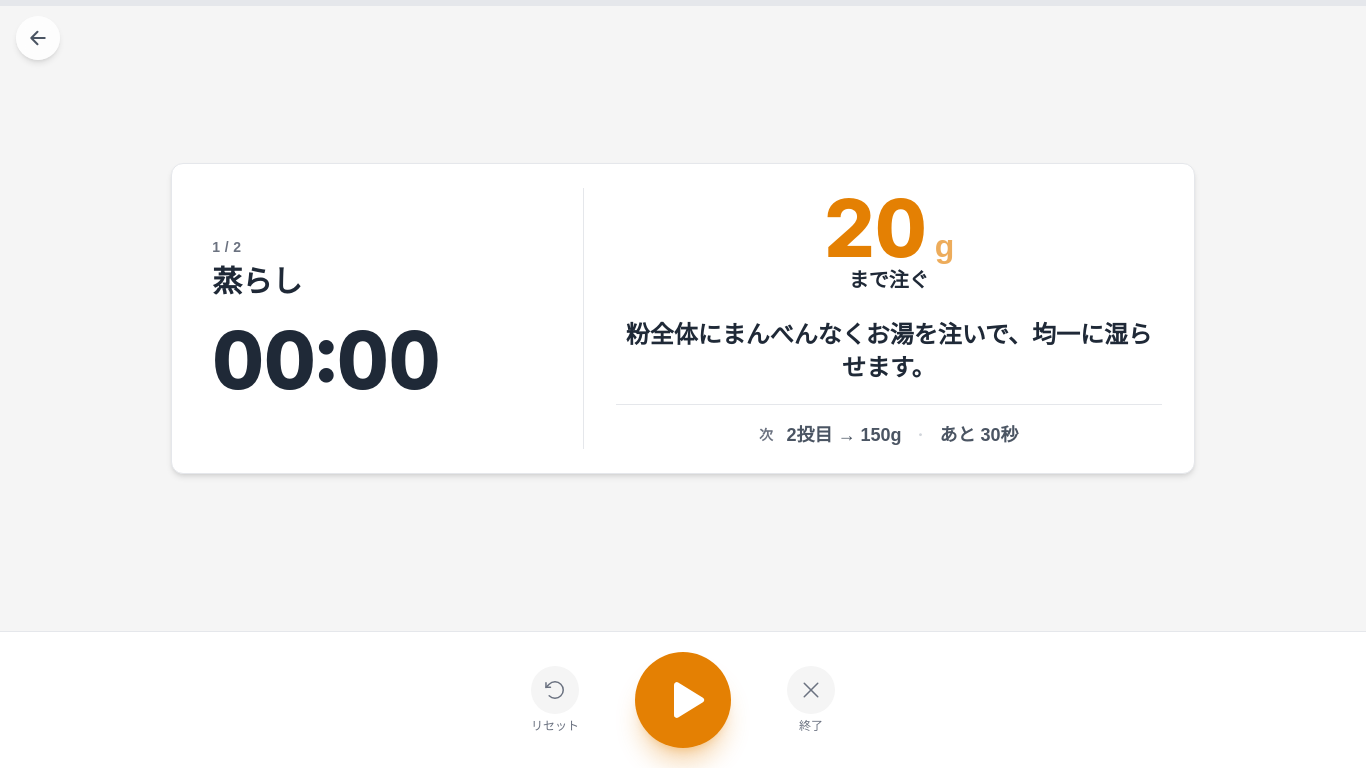
DripGuideRunner › 次ステップ直前アラート › 残り3秒でリングとバーを出し、次の湯量を「まで注ぐ」付きで示す
Click the button named "再生".
click(683, 700)  # box [635,652,731,748]
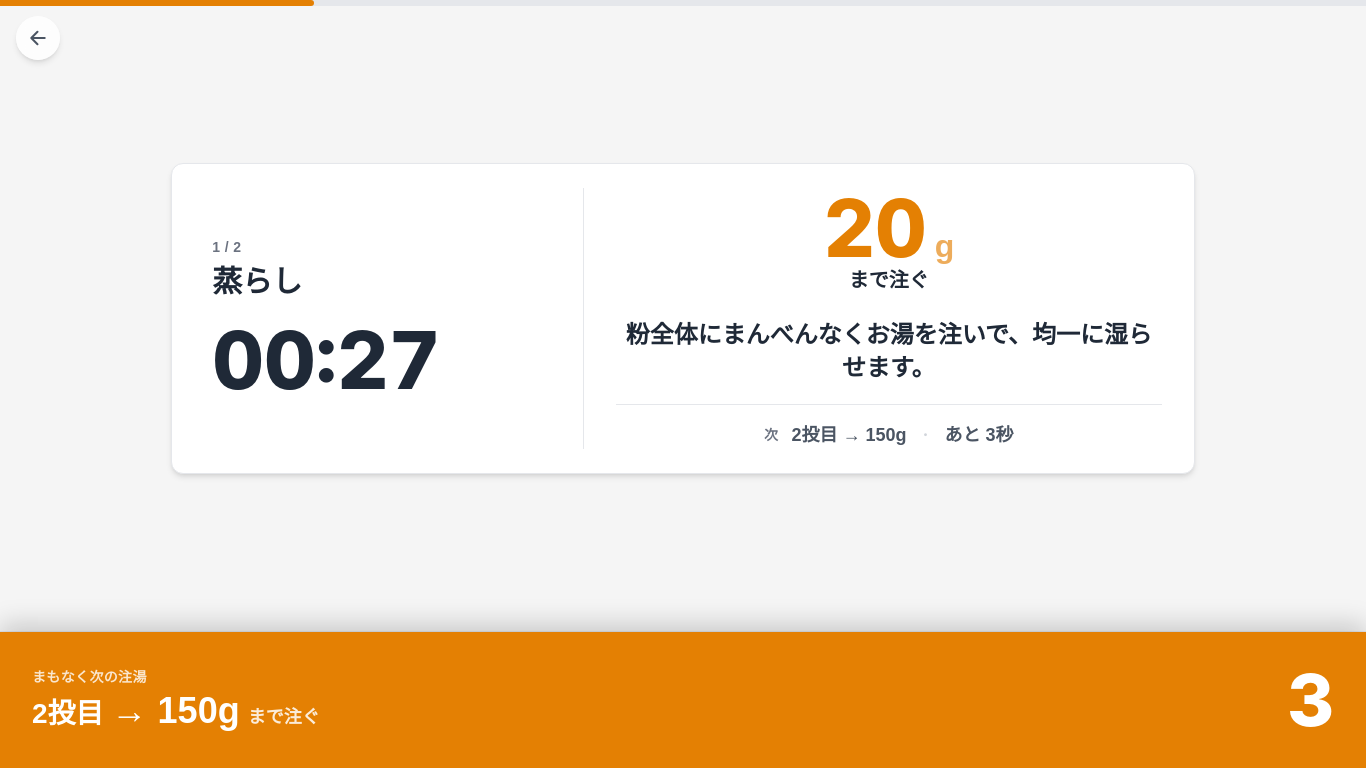
Result: the element with test id "drip-alert-ring" is shown
Result: the element with test id "drip-alert-bar" shows "まもなく次の注湯" at [32,669,147,685]
Result: the element with test id "drip-alert-bar" shows "2投目" at [32,698,104,729]
